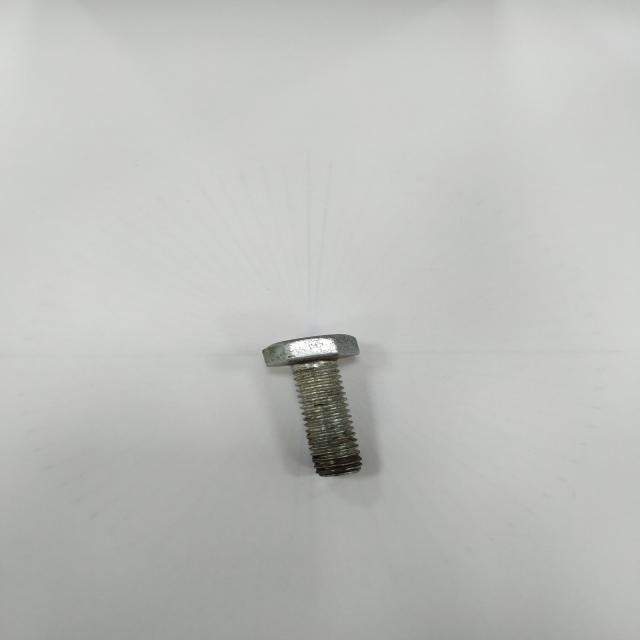Bolt: (263, 335, 362, 476)
